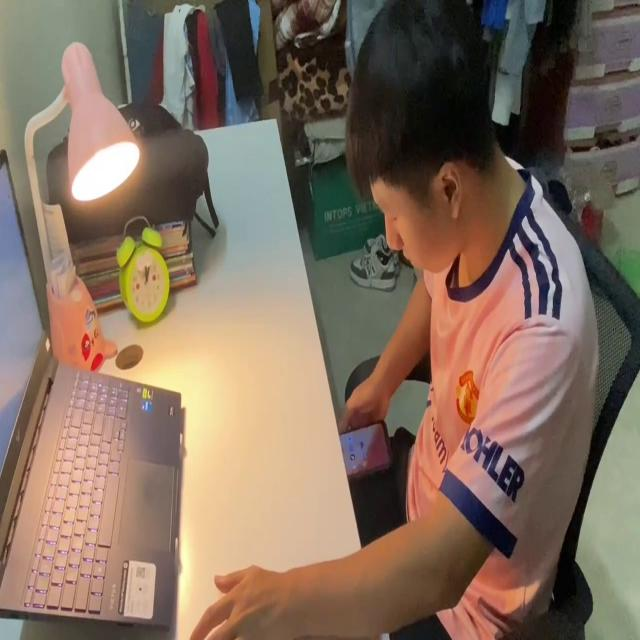laptop: (0, 143, 186, 640)
phone: (334, 416, 392, 478)
student: (193, 6, 599, 640)
